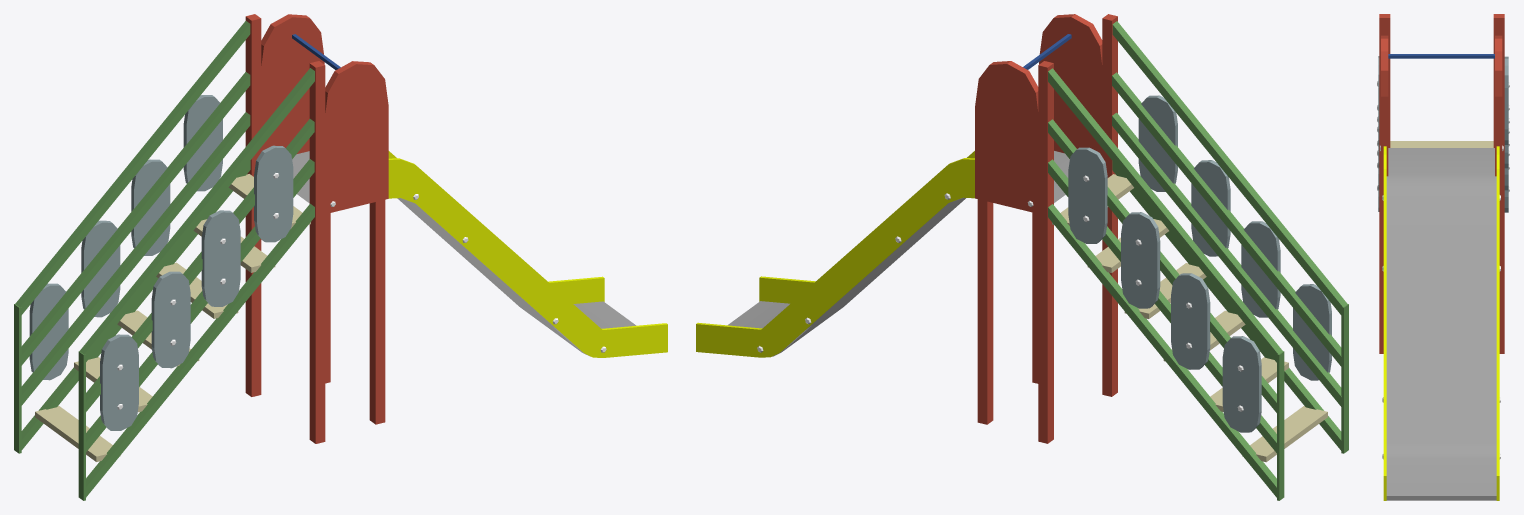
Rendered from Slider.obj.
3 renders of one model, left to right at view 1: azimuth 30°, elevation 25°; view 2: azimuth 150°, elevation 25°; view 3: azimuth 270°, elevation 25°, orthographic. The views are drawn at different scales.
Visible parts, largest first — view 1: SM_Playground_05; view 2: SM_Playground_05; view 3: SM_Playground_05.
Part boxes in pixels (box(x1,y1,x2,y2)): SM_Playground_05: box(14, 14, 667, 500); SM_Playground_05: box(696, 14, 1348, 500); SM_Playground_05: box(1377, 14, 1509, 500).
Size of the model in its own units: 3.04 by 1.87 by 0.6694.
